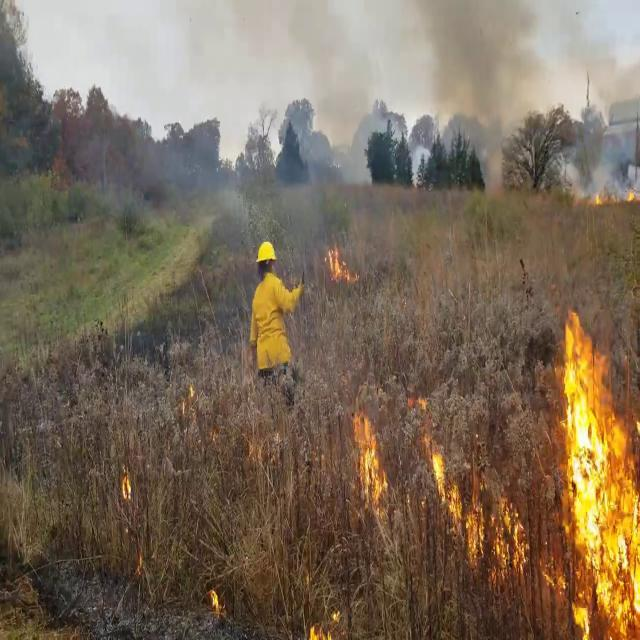Fire: (551, 307, 640, 635), (427, 429, 529, 582), (349, 401, 388, 524), (322, 233, 352, 284), (208, 580, 224, 620)
Smoke: (417, 0, 537, 189), (545, 2, 640, 204), (284, 0, 384, 191)
